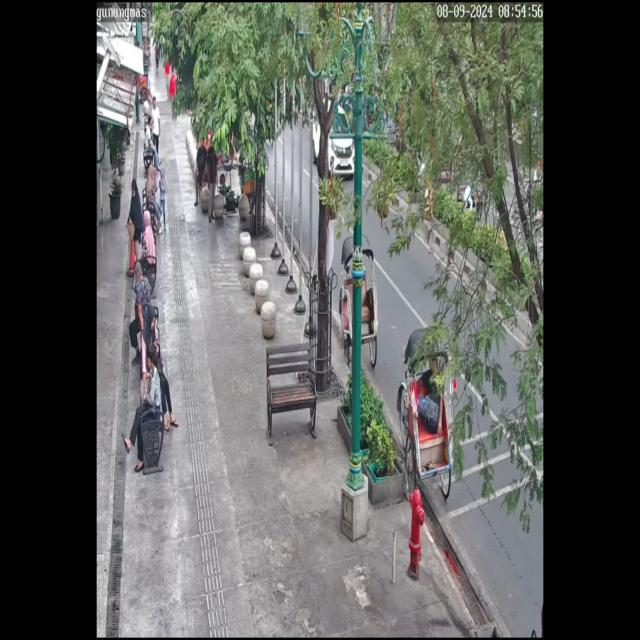Car: (307, 87, 359, 191)
